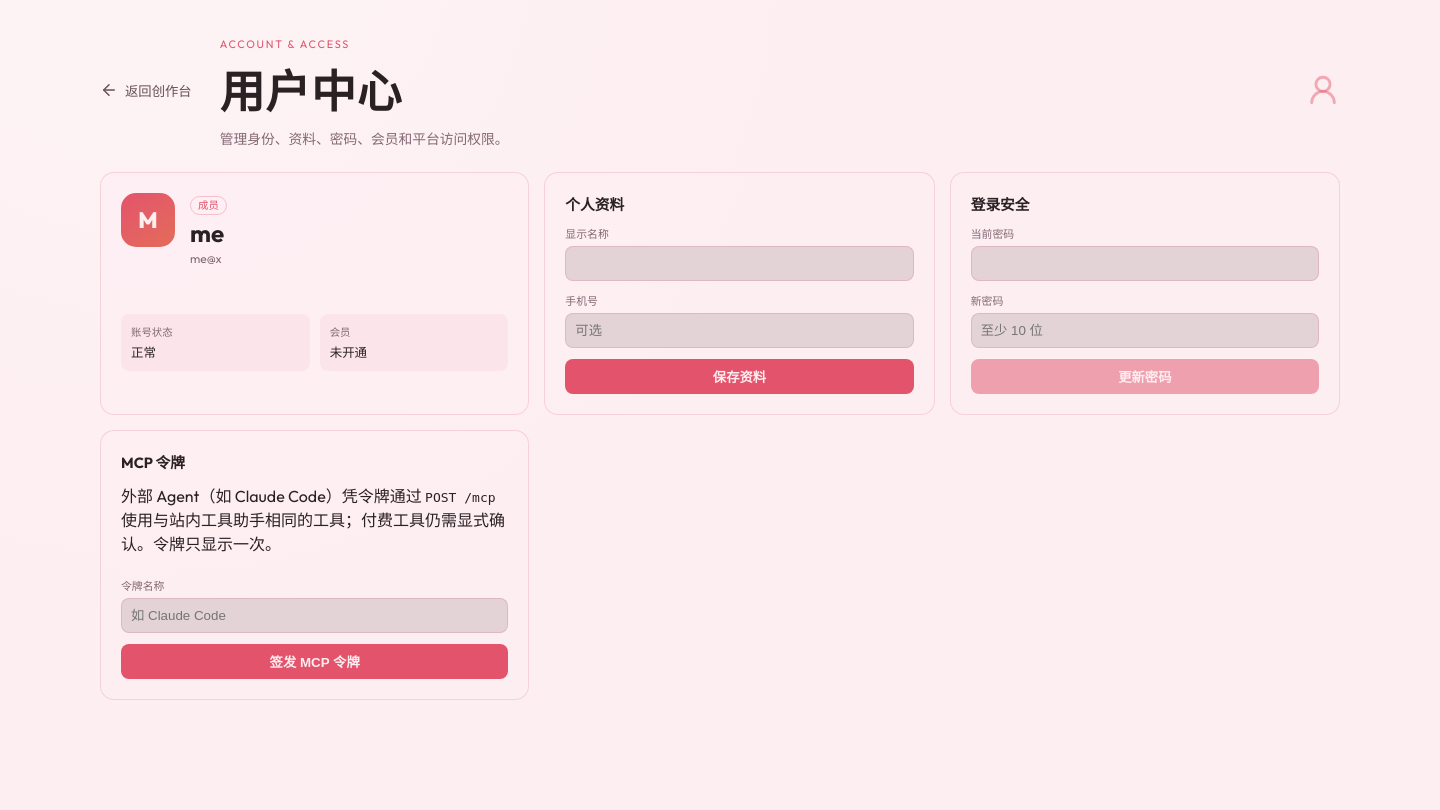
Test case: UserCenterPage › issues an MCP token once, lists it masked and revokes it
Type "Claude Code" into the field labelled "令牌名称".
click(315, 616); type("Claude Code")  # box [121,598,508,633]
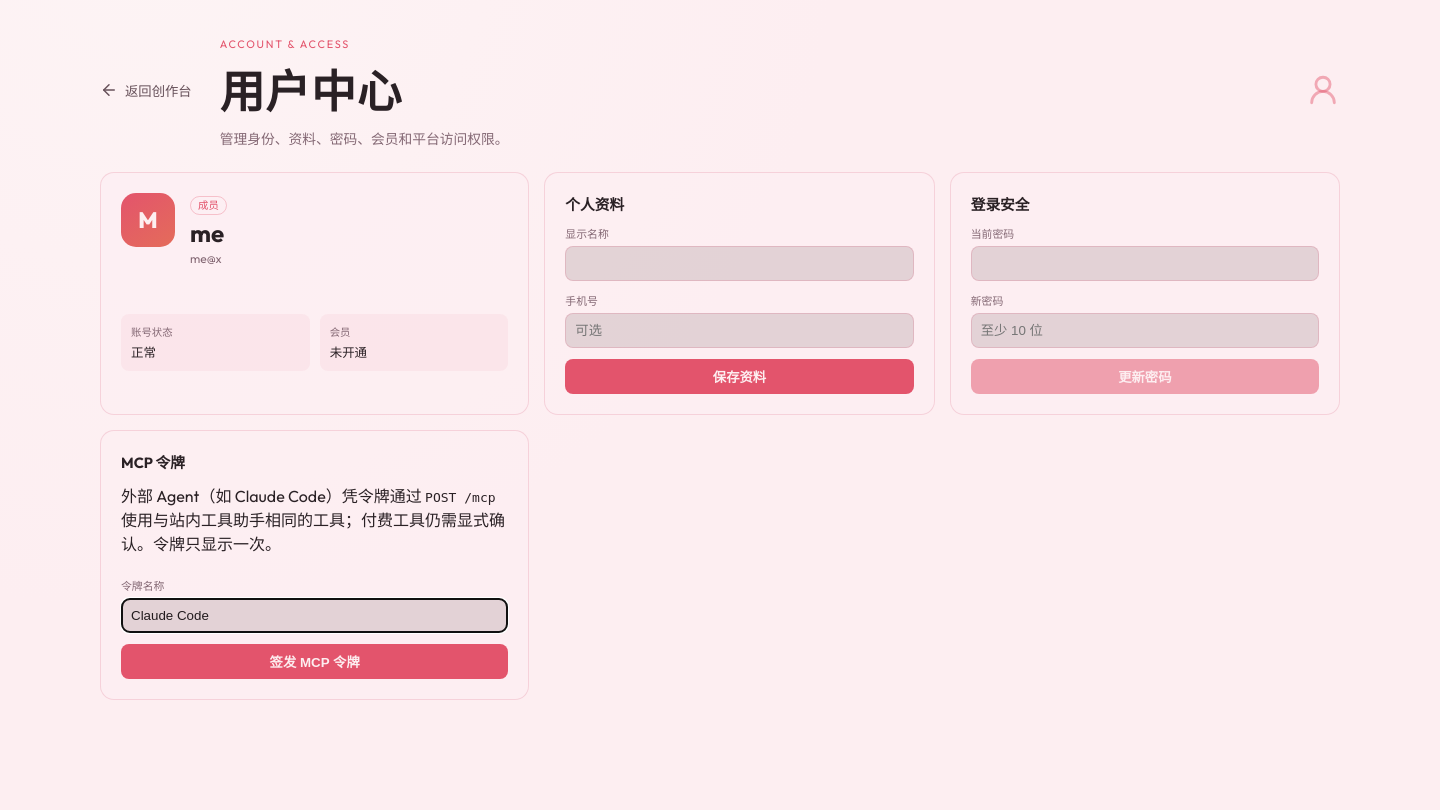
Click the button "签发 MCP 令牌".
click(315, 662)  # box [121,644,508,679]
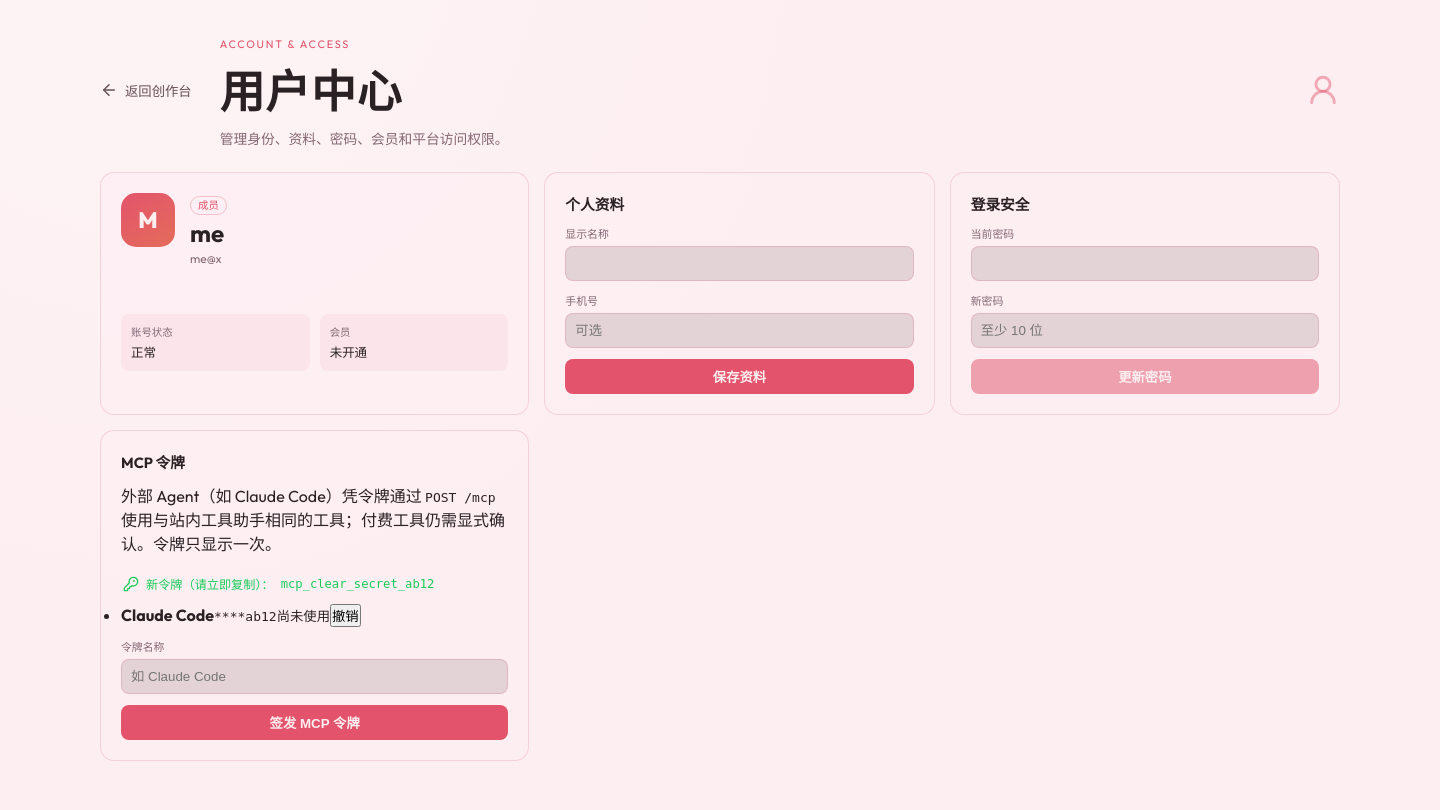
Expected: the text "mcp_clear_secret_ab12" is shown, [281,577,434,591]
Expected: the text "****ab12" is shown, [214,609,277,624]
Click the button with aria-label "撤销令牌 Claude Code".
click(345, 616)  # box [330,604,361,627]
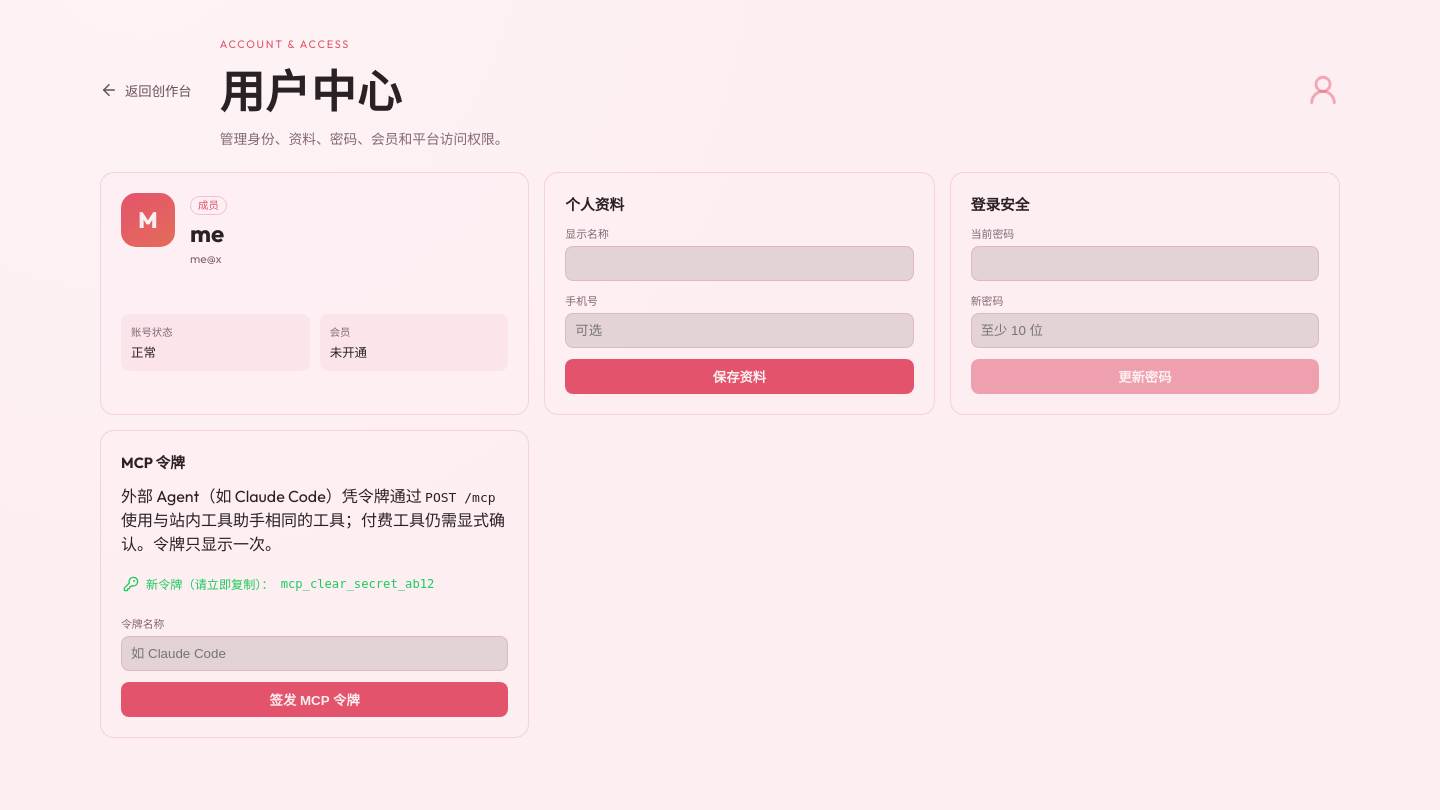
Expected: the text "****ab12" is gone
